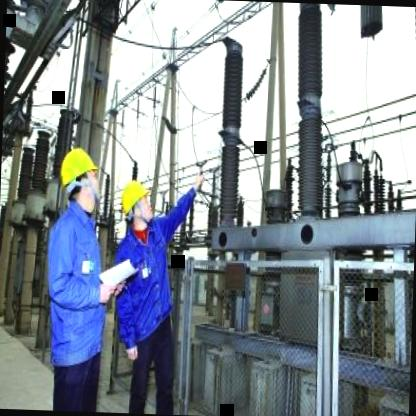helmet: (57, 146, 104, 212), (118, 178, 152, 227)
